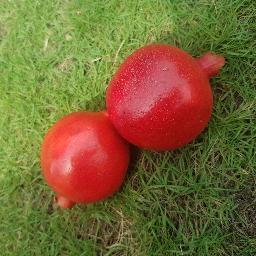Good_pomegranate: (112, 45, 213, 149), (40, 114, 123, 208)
